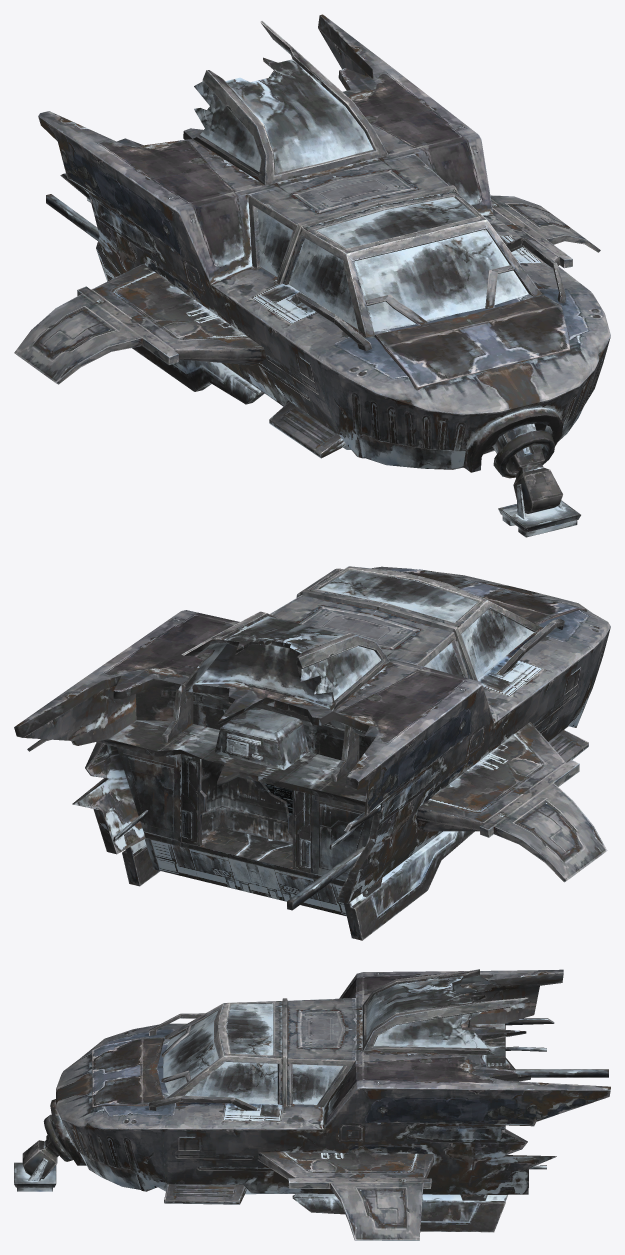
File: hth_item_debris_ship_medium_f.glb
The picture shows the model from 3 angles, top to bottom: view 1: azimuth 30°, elevation 25°; view 2: azimuth 150°, elevation 25°; view 3: azimuth 270°, elevation 25°; orthographic projection. The views are drawn at different scales.
Parts seen in each view (by area): view 1: hth_item_debris_ship_medium_f; view 2: hth_item_debris_ship_medium_f; view 3: hth_item_debris_ship_medium_f.
Boxes of the visible parts, <box> form: hth_item_debris_ship_medium_f: <box>14,14,610,537</box>; hth_item_debris_ship_medium_f: <box>14,566,610,940</box>; hth_item_debris_ship_medium_f: <box>14,969,610,1240</box>.
Size of the model in its own units: 2.07 by 0.9638 by 2.53.
2 materials, 2 textured.
